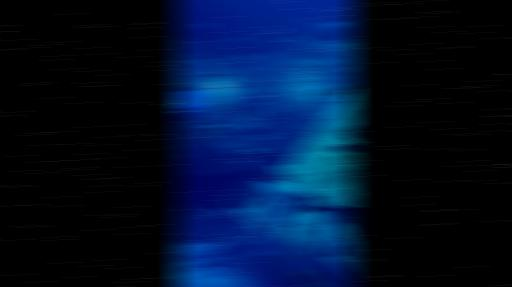Fish: (301, 195, 356, 240), (317, 206, 356, 240), (291, 270, 327, 286), (301, 194, 326, 214), (195, 123, 230, 136), (173, 96, 196, 112), (173, 155, 192, 174), (325, 85, 354, 97), (324, 19, 351, 29), (333, 143, 356, 153), (205, 208, 232, 216), (272, 165, 289, 177), (342, 126, 357, 138), (285, 36, 308, 42), (287, 251, 299, 262), (330, 245, 342, 256), (184, 134, 205, 139), (244, 148, 261, 154), (176, 145, 186, 155), (250, 111, 261, 120), (194, 23, 211, 28), (177, 124, 190, 130), (268, 28, 283, 33), (273, 94, 285, 100), (264, 39, 279, 43), (252, 103, 259, 111), (231, 37, 243, 41)
